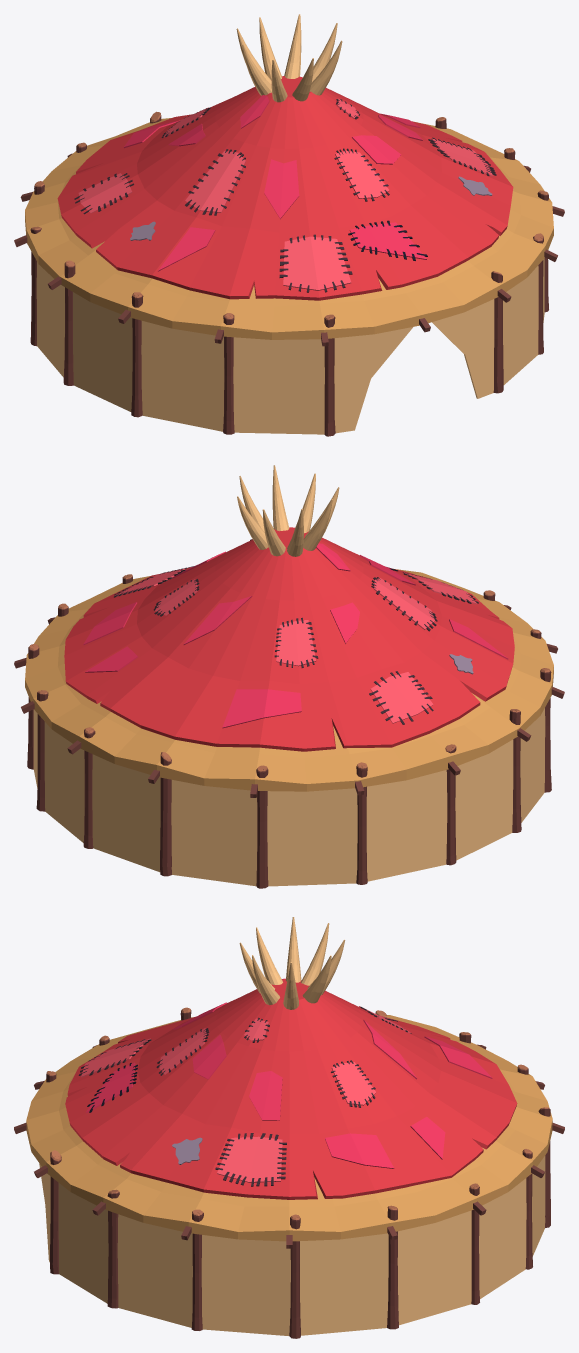
File: Ork Teent 01.fbx
The picture shows the model from 3 angles, top to bottom: view 1: azimuth 30°, elevation 25°; view 2: azimuth 150°, elevation 25°; view 3: azimuth 270°, elevation 25°; orthographic projection.
Visible parts, largest first — view 1: Ork Teent 01; view 2: Ork Teent 01; view 3: Ork Teent 01.
Boxes of the visible parts, bbox=[...] form: Ork Teent 01: bbox=[14, 14, 564, 436]; Ork Teent 01: bbox=[14, 465, 564, 888]; Ork Teent 01: bbox=[14, 917, 564, 1338].
Size of the model in its own units: 1388 by 805 by 1388.
